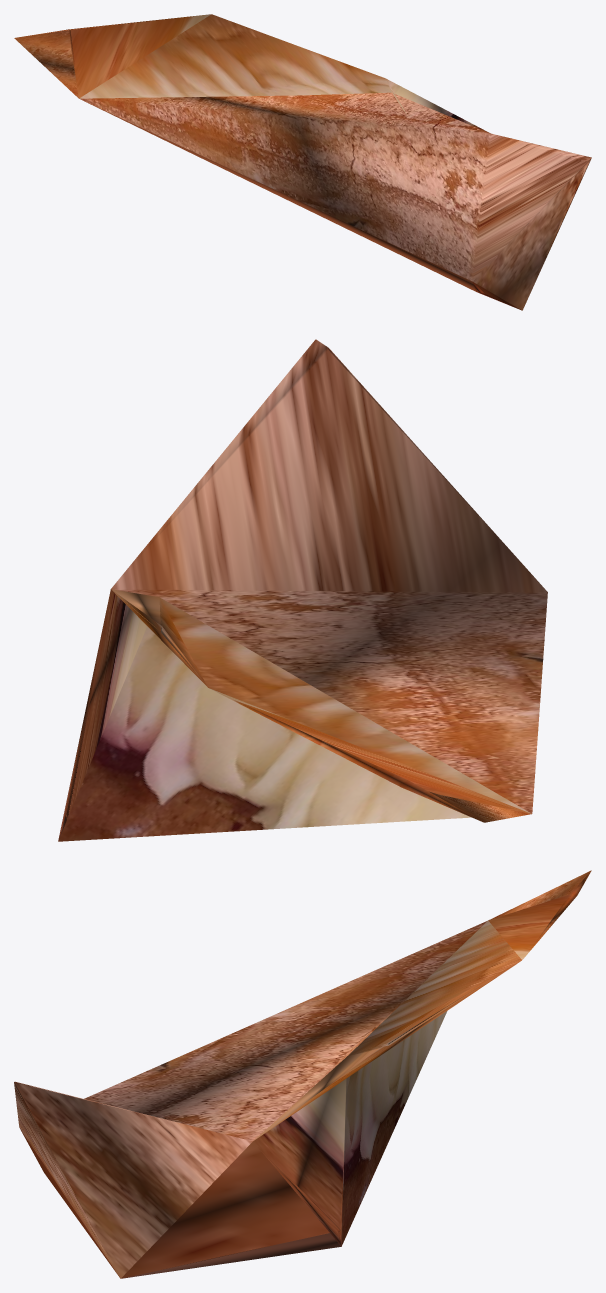
File: eclaire_94.obj
3 views of the same model, one above another, from view 1: azimuth 30°, elevation 25°; view 2: azimuth 150°, elevation 25°; view 3: azimuth 270°, elevation 25° (orthographic). The views are drawn at different scales.
Bounding box in the file's own units: 48.48 × 28.58 × 62.58.
1 material, 1 textured.
